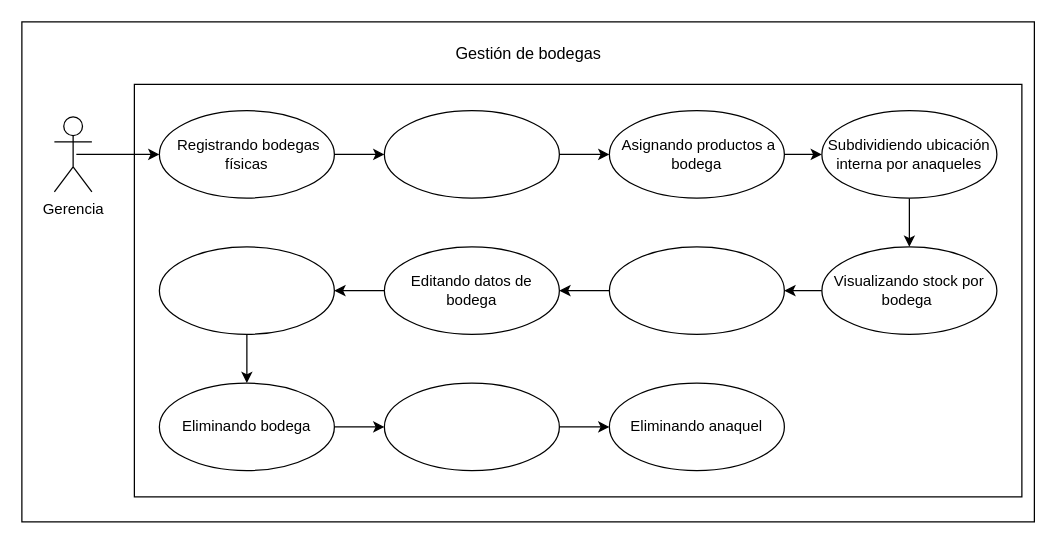
Image size: 1056x544. Some labels were removed from this diagram. Here are the shapes that lost their labels. From the top down, the centre of each, then its label:
At point (471, 153): "Registrando traslado entre bodegas".
At point (246, 290): "Desactivando bodega".
At point (696, 290): "Visualizando stock consolidado".
At point (471, 426): "Editando anaquel".
